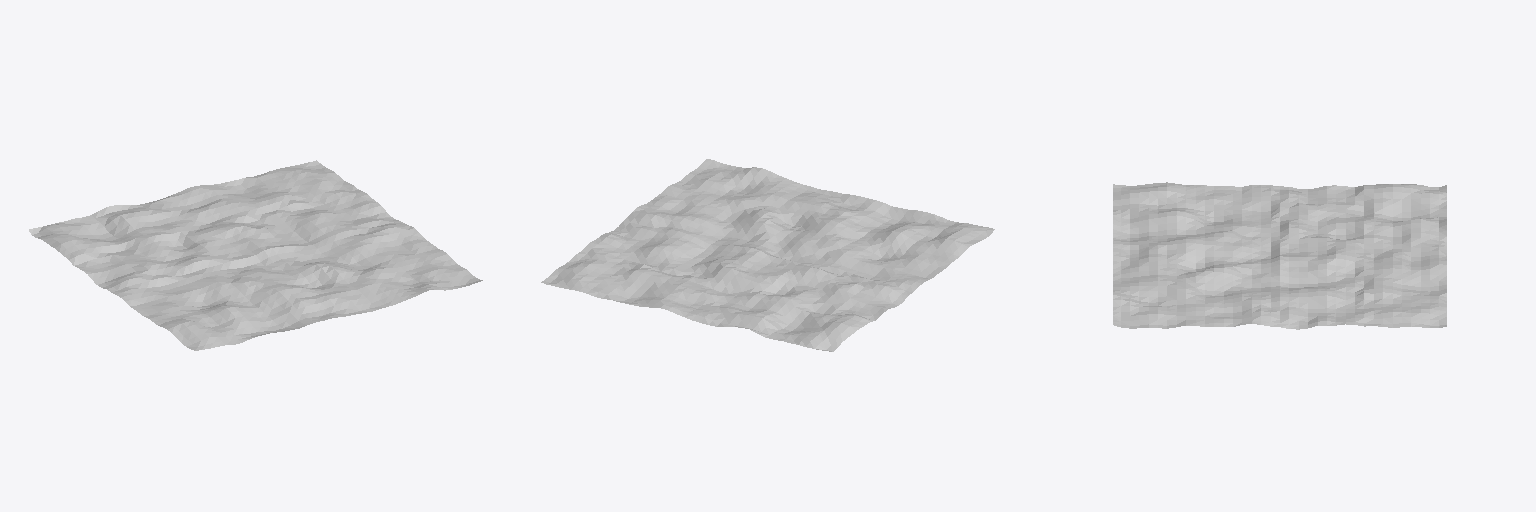
File: water1.obj
3 views of the same model, side by side, from view 1: azimuth 30°, elevation 25°; view 2: azimuth 150°, elevation 25°; view 3: azimuth 270°, elevation 25° (orthographic).
Visible parts, largest first — view 1: Grid.001; view 2: Grid.001; view 3: Grid.001.
Boxes of the visible parts, x1,y1,x2,y2 form: Grid.001: [29, 160, 482, 350]; Grid.001: [541, 159, 994, 351]; Grid.001: [1113, 182, 1446, 329].
Bounding box in the file's own units: 117 × 4.7 × 117.